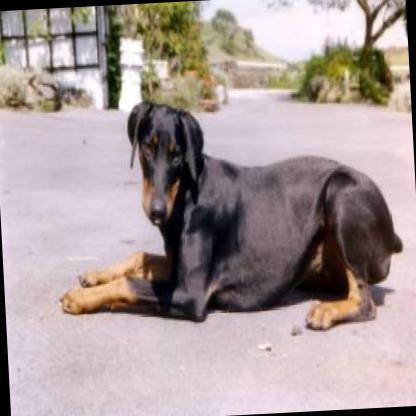Doberman: (49, 86, 408, 341)
